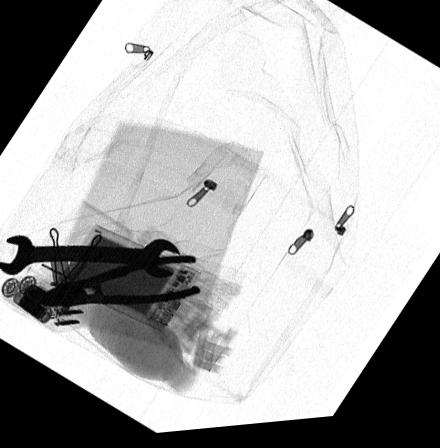Pliers: (33, 256, 201, 307)
Powerbank: (55, 227, 202, 334)
Wrench: (0, 234, 180, 282)
